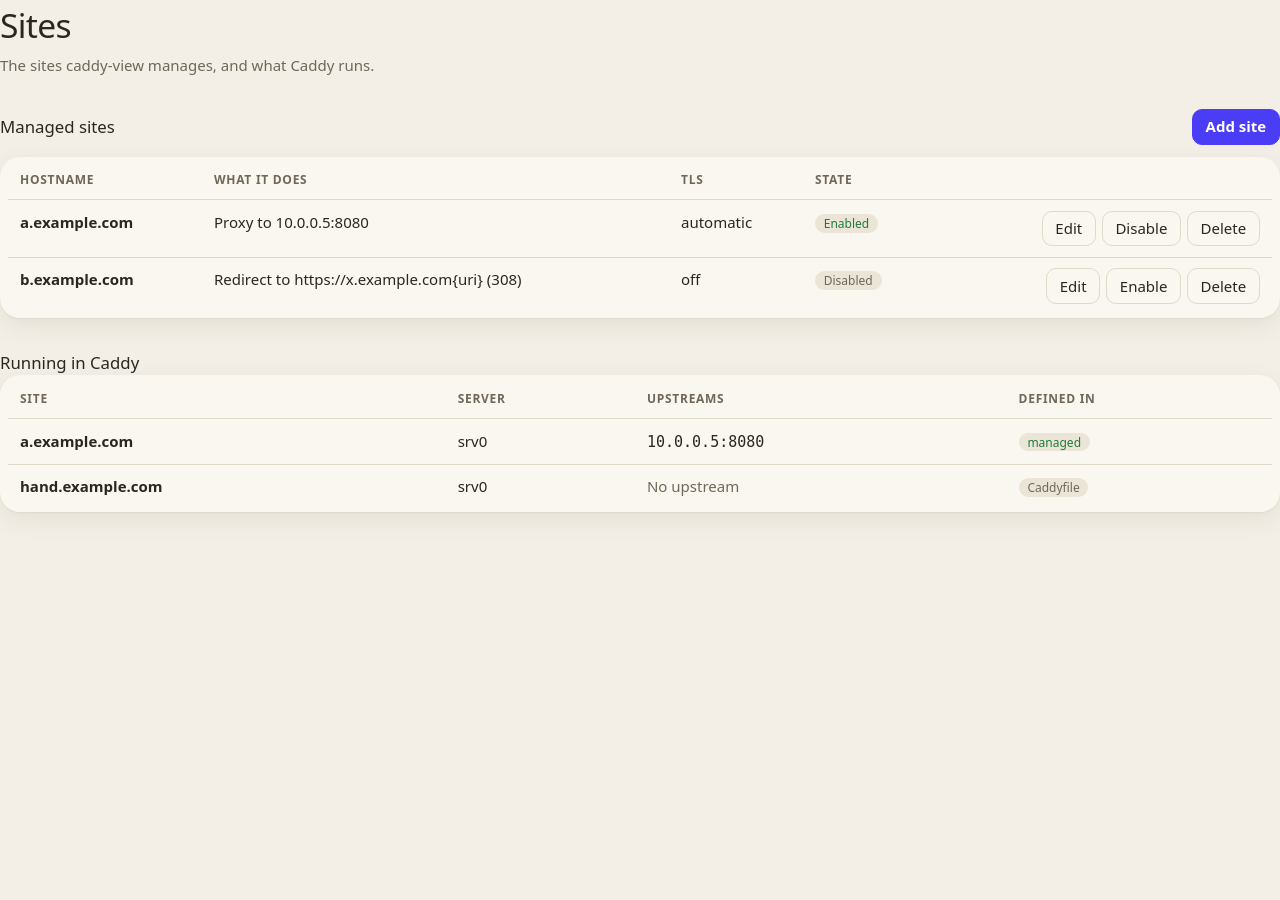
Test: SitesView adding and changing sites › opens the wizard for a new site, and closes it on cancel
The image size is (1280, 900).
Expected: the heading "Sites" is shown, [0, 2, 71, 48]
What coordinates should you click on to do the following:
click the button "Add site"
I would click on:
 (1236, 127)
Its box is [1192, 109, 1279, 145].
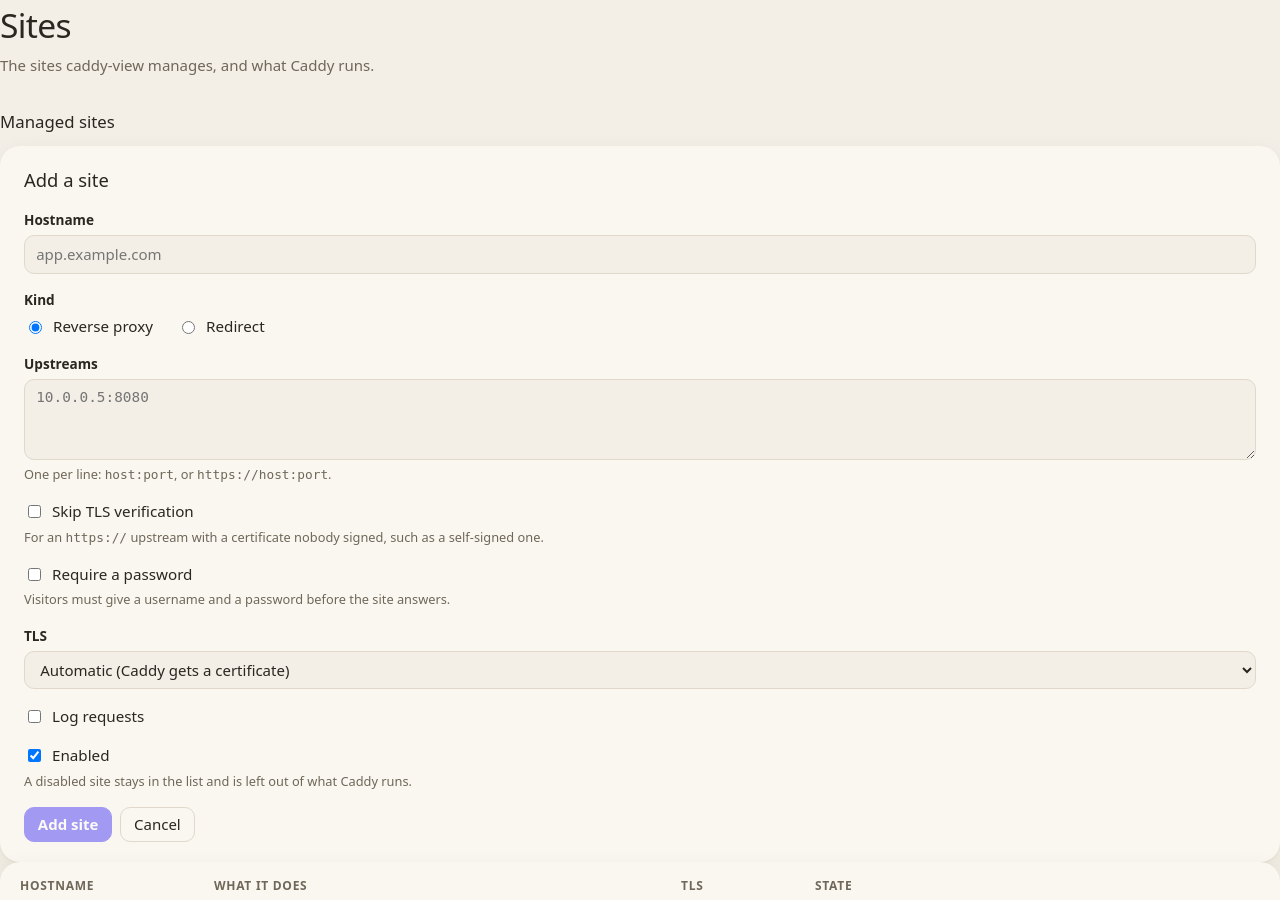
Now the heading "Add a site" is shown, box [24, 167, 109, 192]
What coordinates should you click on to do the following:
click the button "Cancel"
I would click on:
 (157, 825)
Its box is [120, 807, 195, 842].
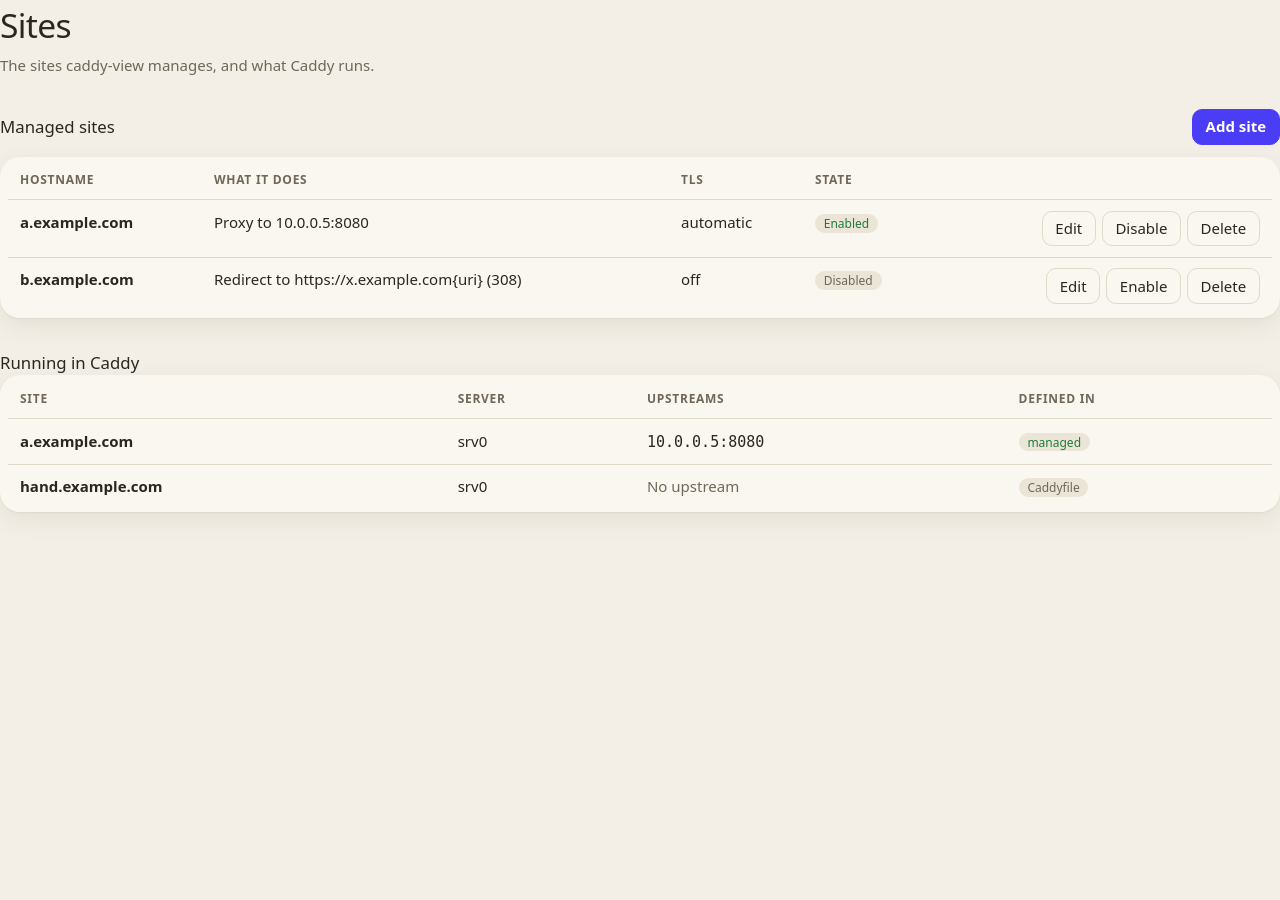
Now the heading "Add a site" is gone
